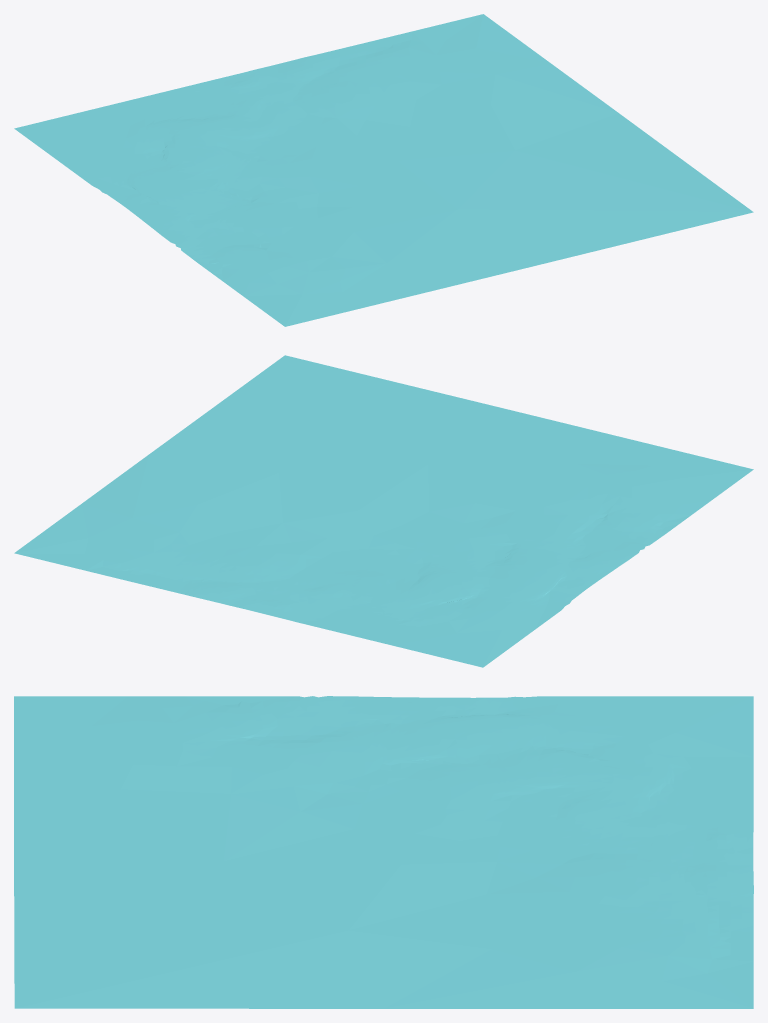
File: agua.gltf
3 renders of one model, top to bottom at view 1: azimuth 30°, elevation 25°; view 2: azimuth 150°, elevation 25°; view 3: azimuth 270°, elevation 25°, orthographic. The views are drawn at different scales.
Parts seen in each view (by area): view 1: Plane; view 2: Plane; view 3: Plane.
Part boxes in pixels (<box>): Plane: <box>14,14,753,326</box>; Plane: <box>14,355,753,667</box>; Plane: <box>14,696,753,1008</box>.
Size of the model in its own units: 200 by 0.3153 by 200.
